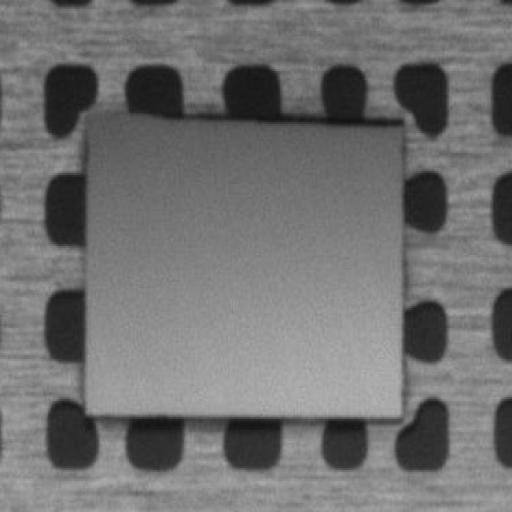DIE_BROKEN: (166, 110, 406, 128)
